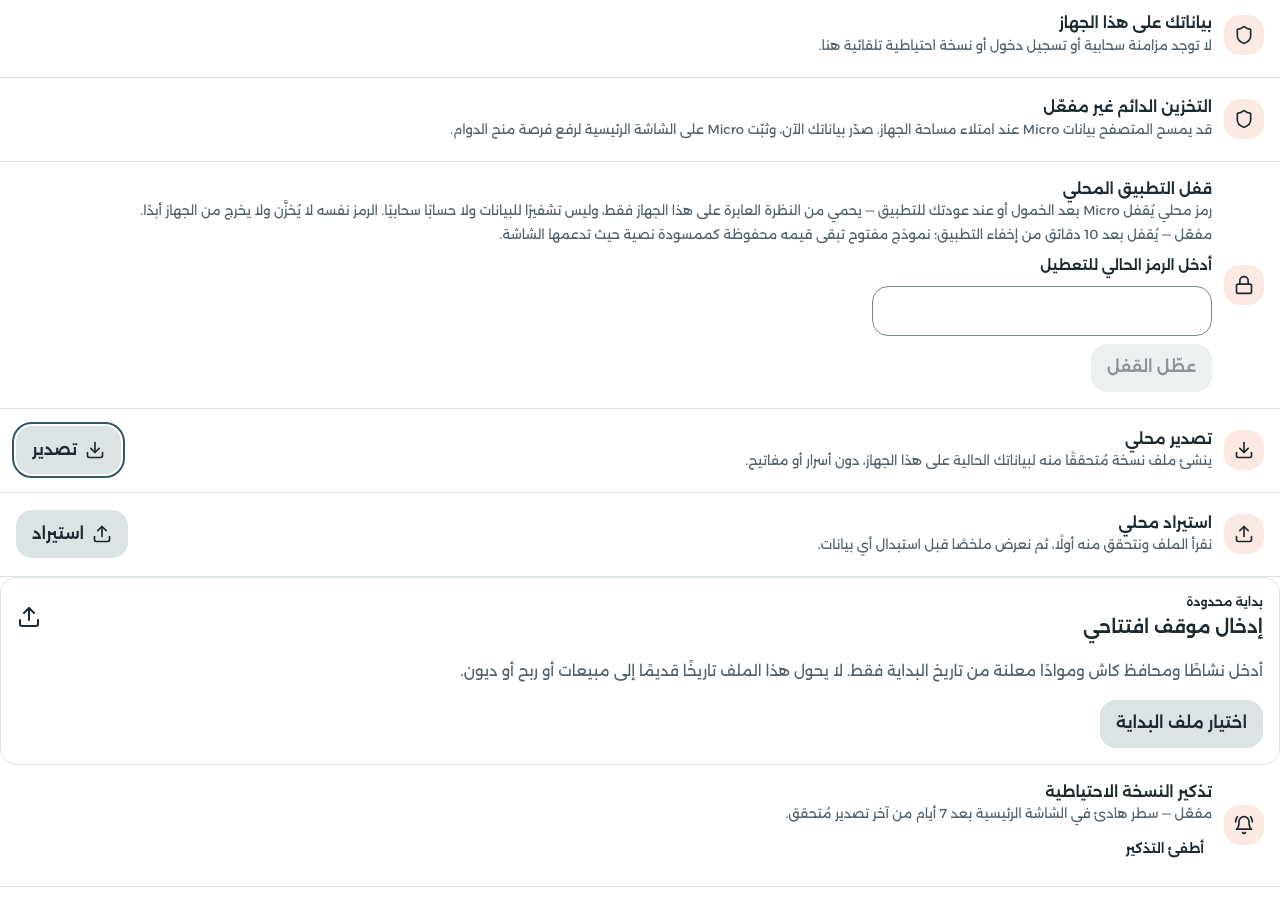
Test: R11 W4 / D-14 — true-modal focus contracts (OD-A11Y semantics-only) › PIN gate: veil + focus moves into the PIN input when the gate opens (focus-in)
The image size is (1280, 900).
(page scrolled)
What coordinates should you click on to do the following:
click the button with aria-label "تصدير البيانات المحلية"
I would click on:
 (69, 450)
Its box is [16,426,121,474].
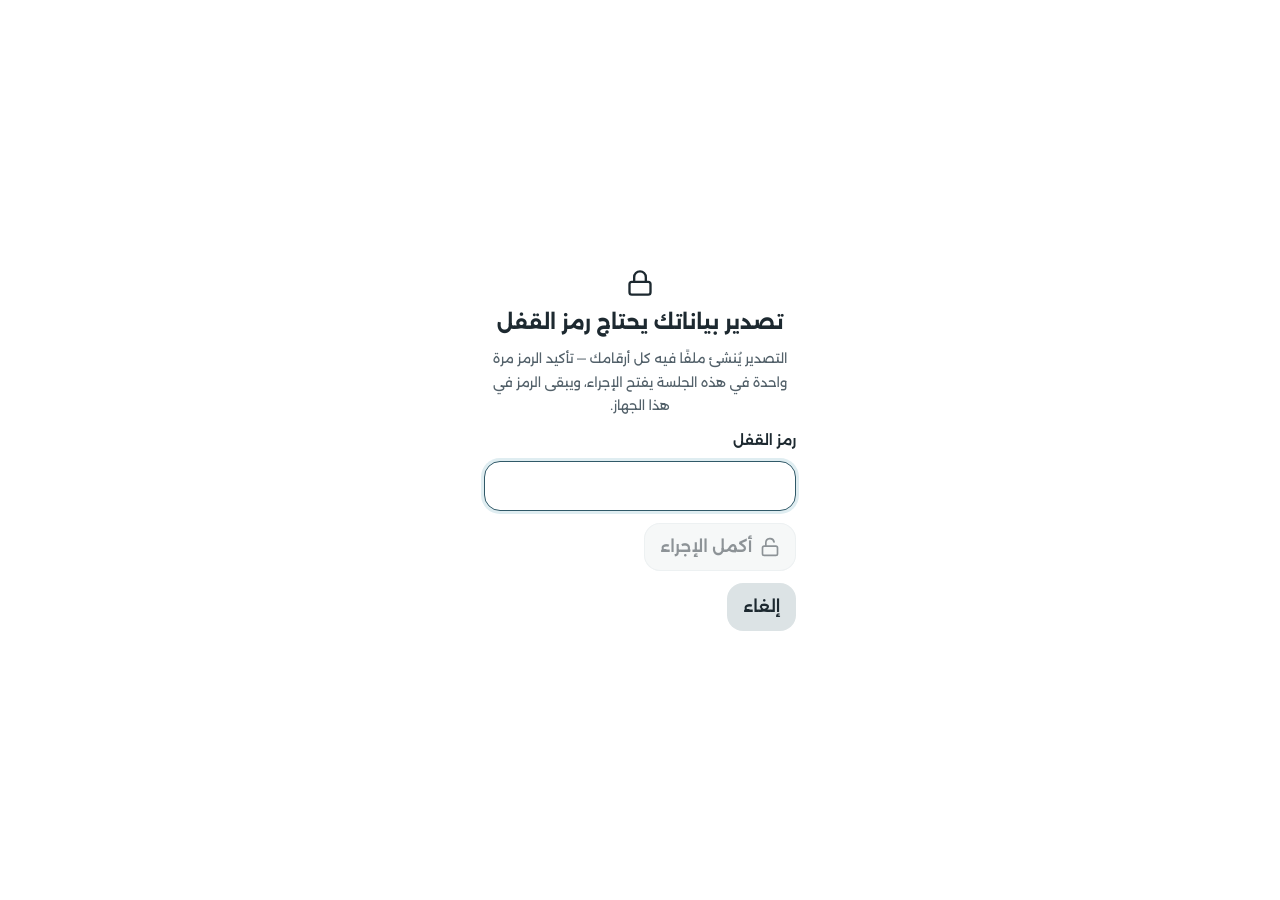
expect the element with class "micro-lock-veil" is shown: met
